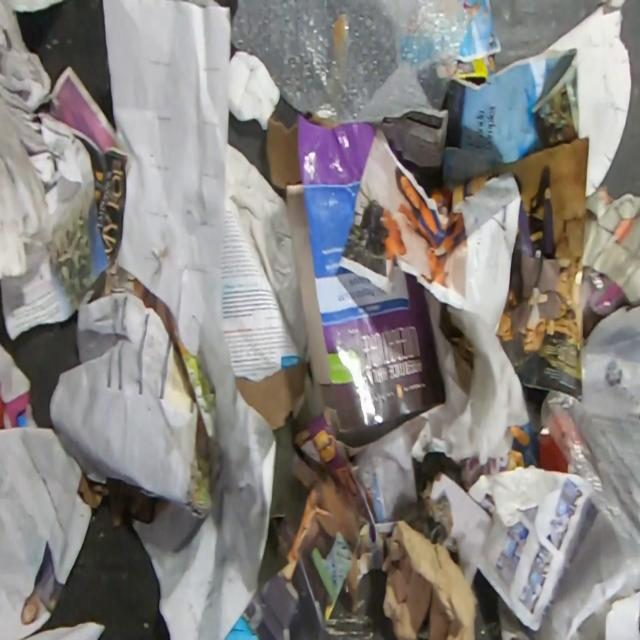cardboard: (219, 195, 310, 431), (540, 2, 633, 198), (494, 134, 588, 270), (380, 515, 478, 640), (582, 183, 640, 308), (76, 471, 168, 530), (226, 50, 281, 133), (0, 342, 39, 430), (264, 106, 301, 191), (604, 592, 640, 640)
soft_plastic: (538, 303, 640, 615), (230, 0, 472, 127), (423, 286, 532, 468), (580, 266, 628, 317)
